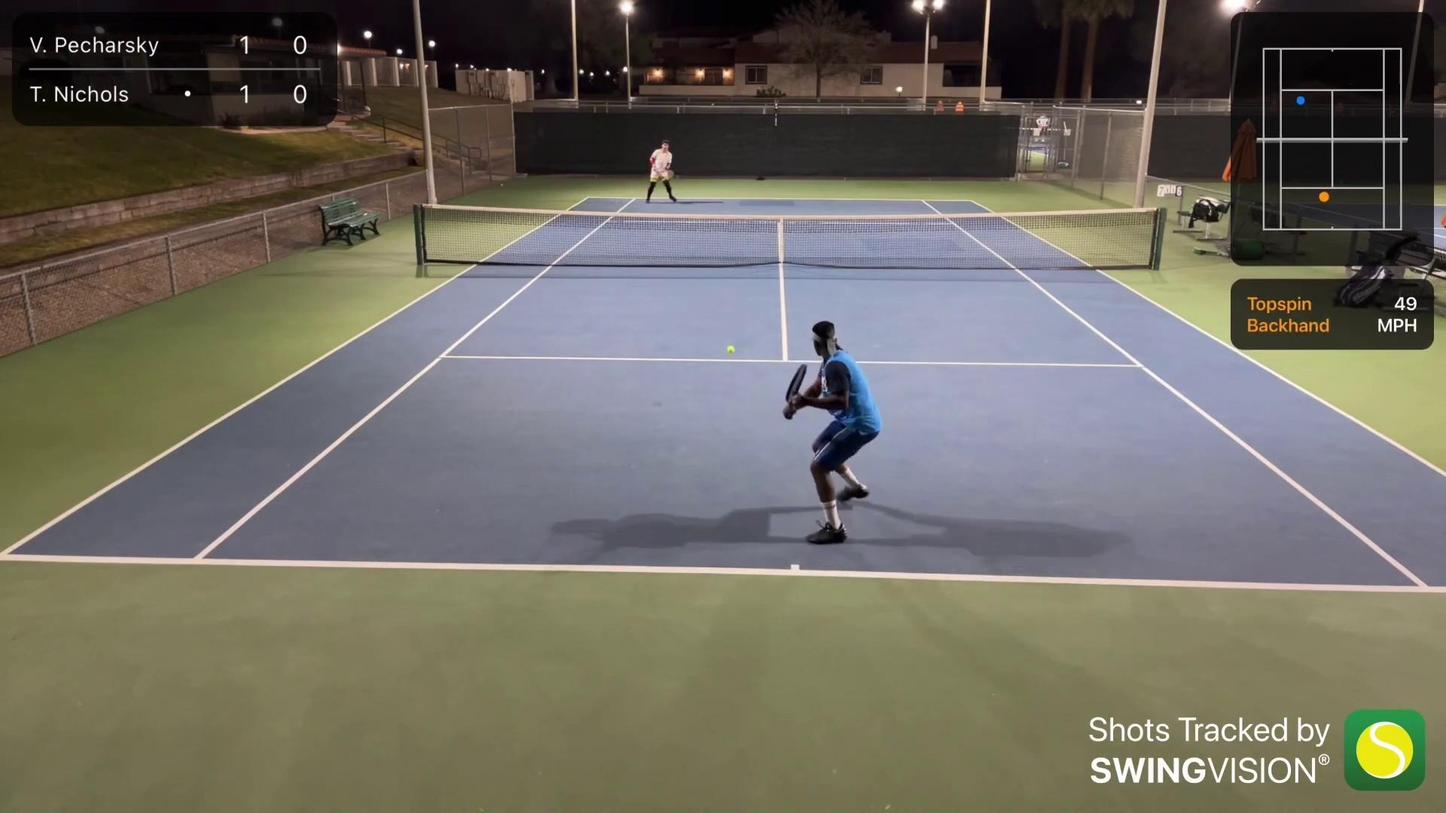ball: (724, 343, 736, 354)
